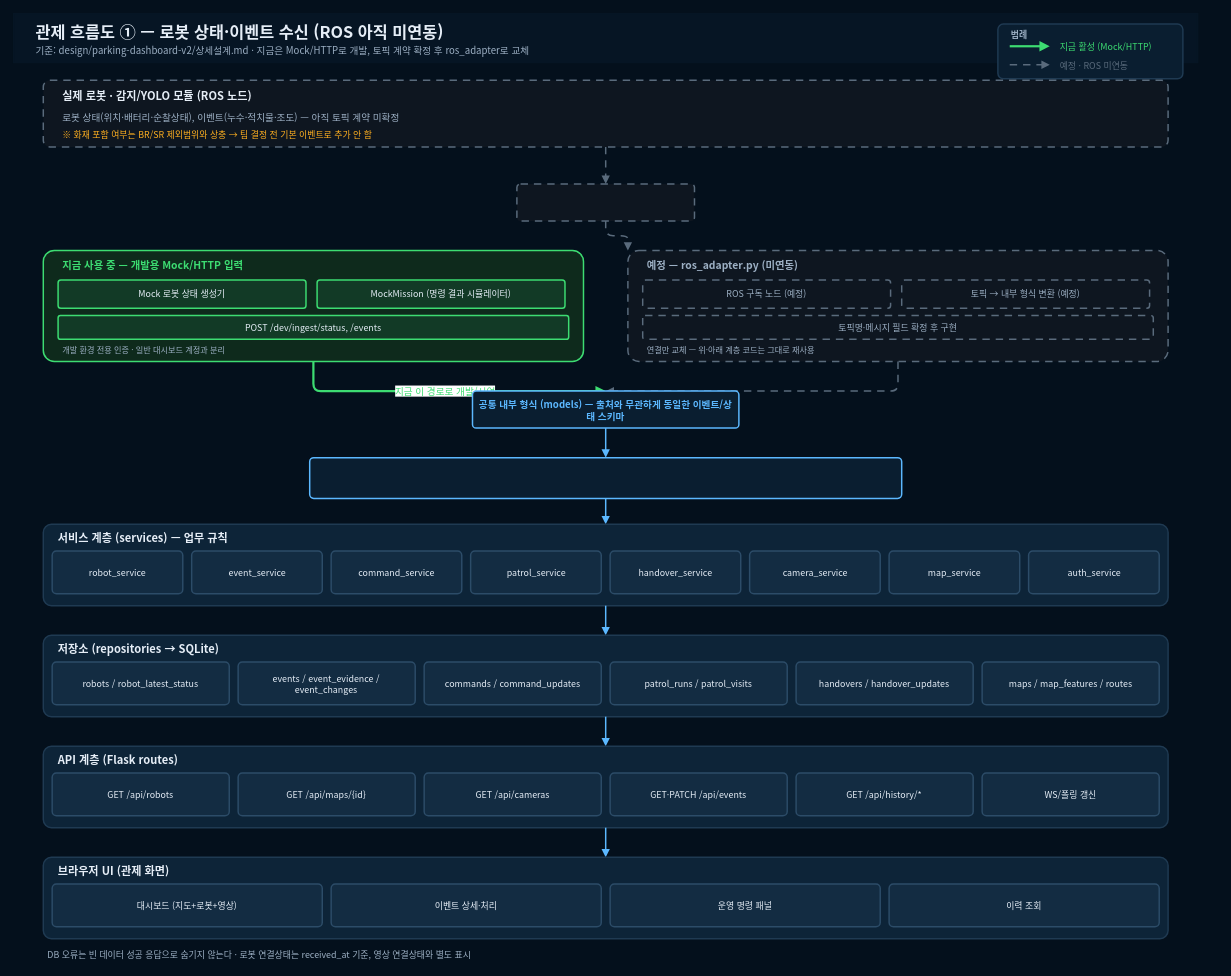
This 1231x976 diagram has some shape labels left out. The shapes that lost their labels are listed below. From the top down, each one's centre as x and y in pixels, then its label:
At point 605,202: "ROS 토픽 계약 (미정)".
At point 605,478: "검증·중복확인 — source_id+message_id 중복 제거 · 시퀀스/시각 역전 방지 · 필드 유효성".
